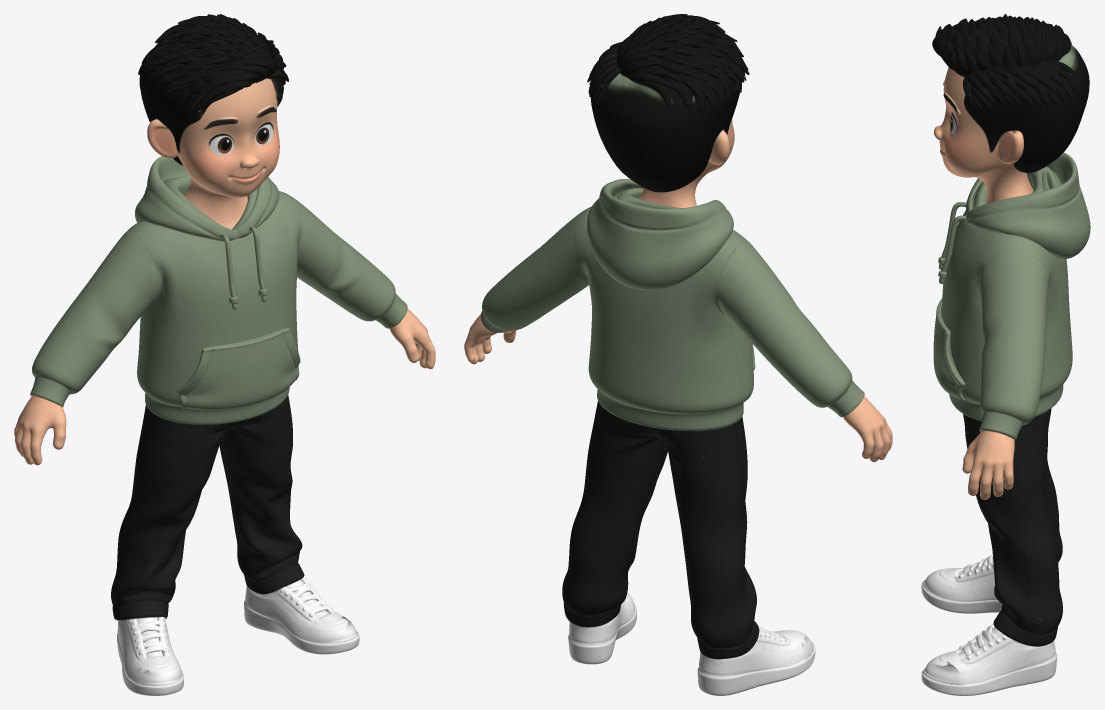
File: meshy-flagship.glb
3 renders of one model, left to right at view 1: azimuth 30°, elevation 25°; view 2: azimuth 150°, elevation 25°; view 3: azimuth 270°, elevation 25°, orthographic.
Bounding box in the file's own units: 1.31 × 1.9 × 0.4666.
Materials: 1 (1 with a texture image).
